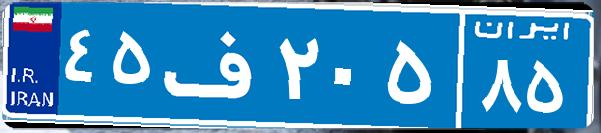0: (330, 28, 385, 110)
2: (273, 28, 330, 110)
4: (57, 26, 110, 107)
5: (385, 28, 445, 110), (110, 28, 158, 105), (525, 38, 570, 115)
8: (475, 38, 525, 113)
ف: (158, 15, 273, 115)
